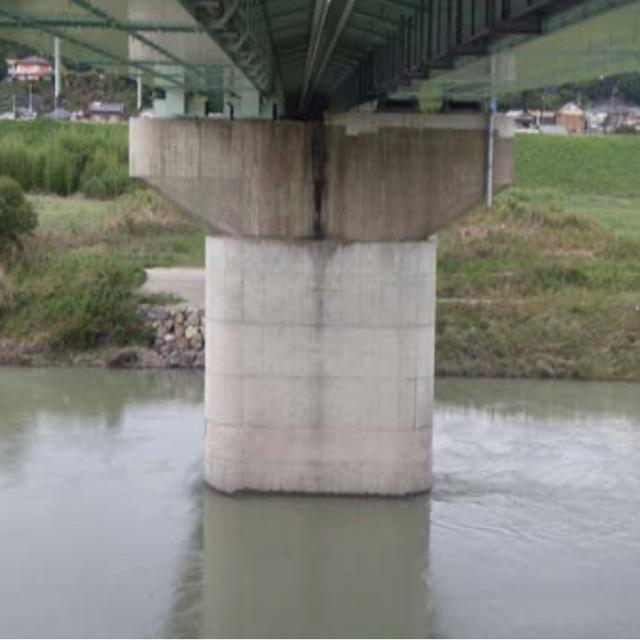leakage: (302, 117, 344, 250)
